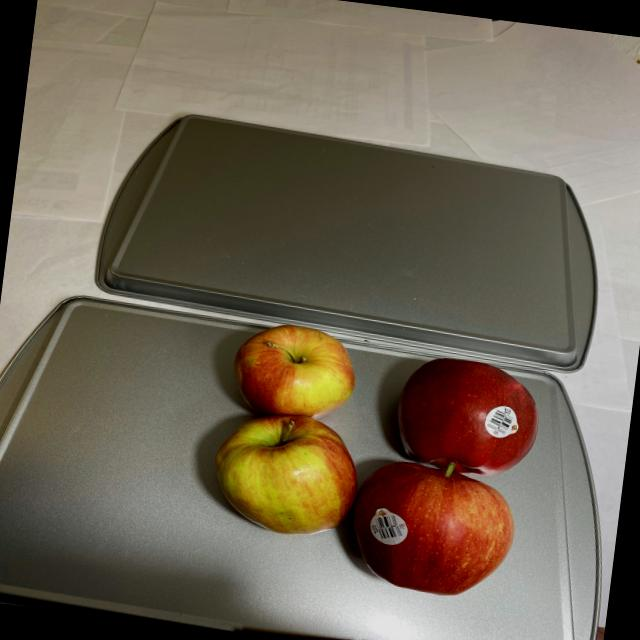apple: (202, 318, 550, 604)
